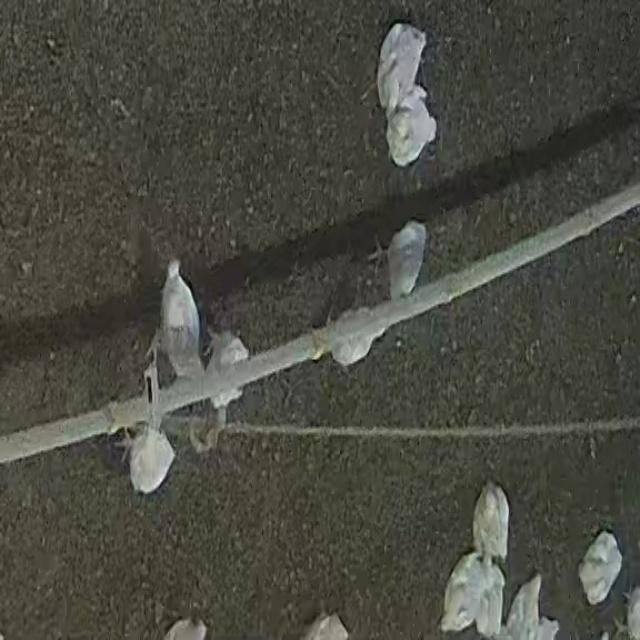chicken: (153, 260, 202, 389), (372, 22, 427, 110), (385, 90, 438, 168), (382, 220, 431, 302), (575, 533, 623, 605), (439, 554, 482, 633), (127, 429, 176, 497), (326, 310, 384, 366), (207, 330, 247, 406), (472, 481, 510, 560), (473, 556, 506, 637), (505, 572, 544, 640)
